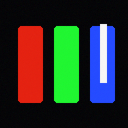4 line_v: (100, 24, 106, 82)
